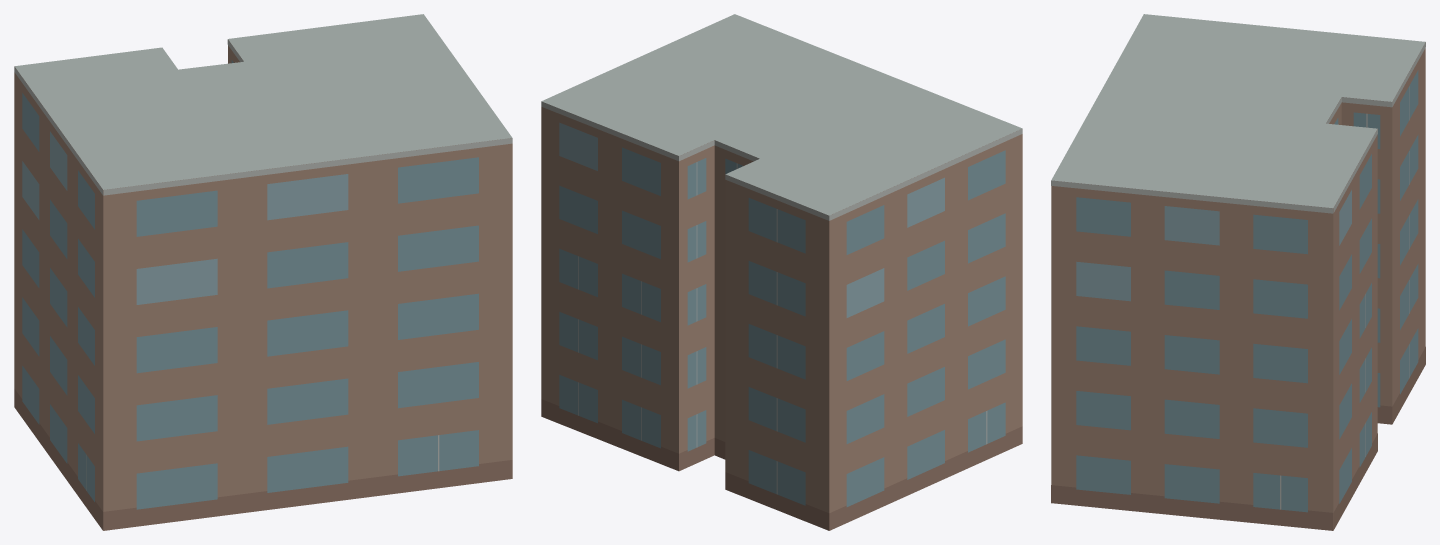
The model's file is survey-upis-32522539.glb.
3 views of the same model, side by side, from view 1: azimuth 30°, elevation 25°; view 2: azimuth 150°, elevation 25°; view 3: azimuth 270°, elevation 25° (orthographic). The views are drawn at different scales.
Visible parts, largest first — view 1: survey-upis-32522539.tmp; view 2: survey-upis-32522539.tmp; view 3: survey-upis-32522539.tmp.
Part boxes in pixels (<box>): survey-upis-32522539.tmp: <box>14,14,512,530</box>; survey-upis-32522539.tmp: <box>541,14,1022,530</box>; survey-upis-32522539.tmp: <box>1051,14,1425,530</box>.
Bounding box in the file's own units: 18.74 × 14.51 × 15.28.
